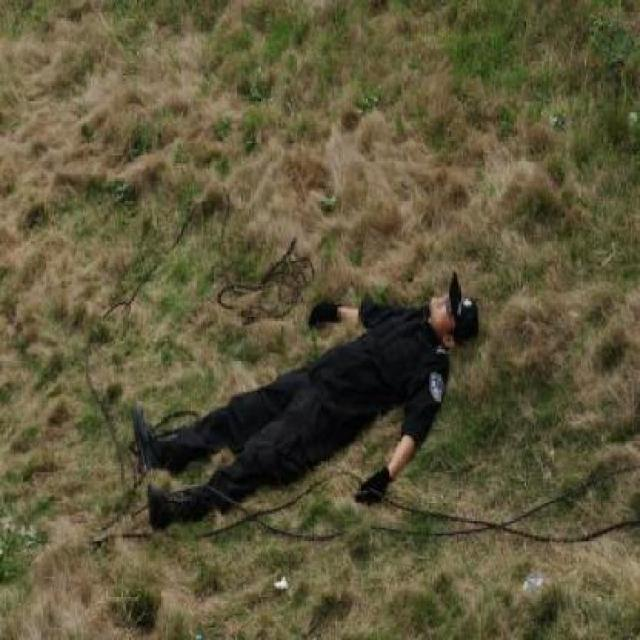fall: (113, 254, 478, 529)
